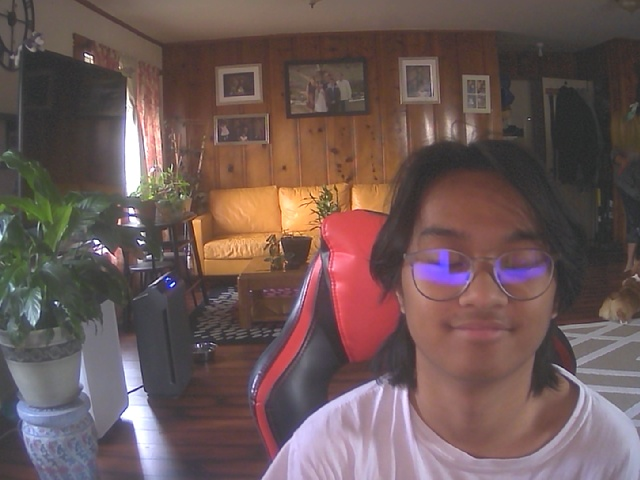happy: (392, 151, 576, 382)
